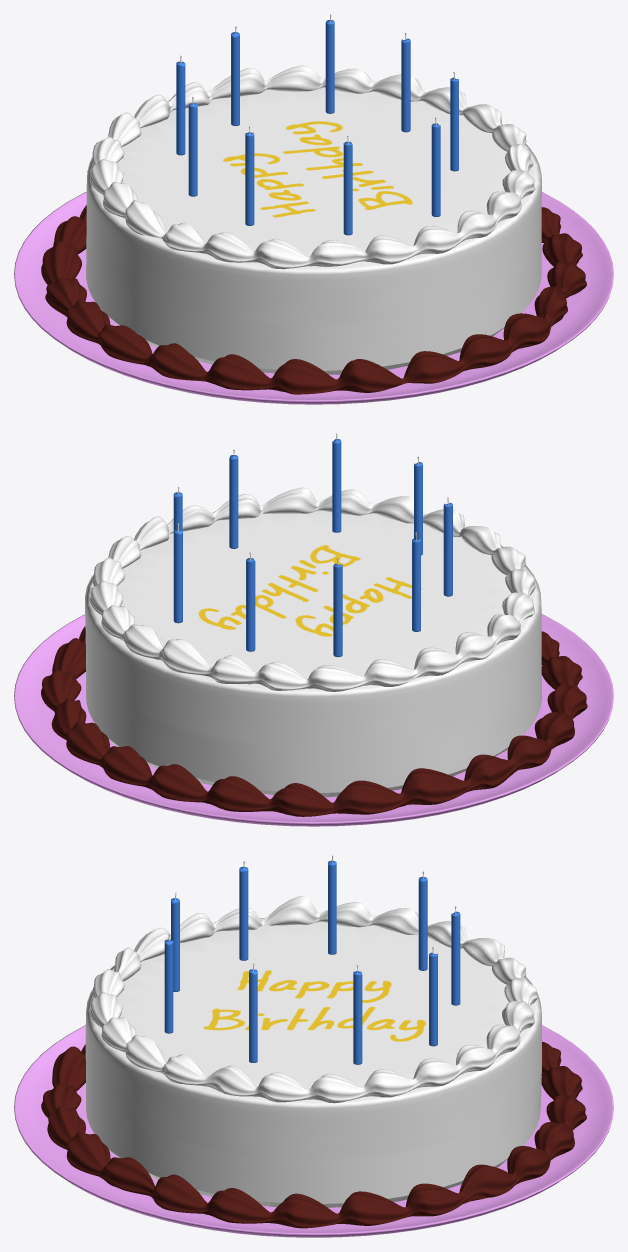
Rendered from birthday_cake.glb.
3 renders of one model, top to bottom at view 1: azimuth 30°, elevation 25°; view 2: azimuth 150°, elevation 25°; view 3: azimuth 270°, elevation 25°, orthographic.
Parts seen in each view (by area): view 1: cake, yellow-cream, cream, dish, happy_birthday_text, candle4, candle5, candle7, candle6, candle2, candle, candle8 (+2 smaller); view 2: cake, yellow-cream, cream, dish, happy_birthday_text, candle9, candle2, candle6, candle8, candle4, candle3, candle5 (+1 smaller); view 3: cake, yellow-cream, cream, dish, happy_birthday_text, candle8, candle6, candle4, candle3, candle, candle5, candle9 (+2 smaller).
Part boxes in pixels (x1,y1,x2,y2): cake: (86, 87, 541, 374); yellow-cream: (90, 65, 535, 269); cream: (41, 205, 586, 394); dish: (14, 192, 613, 404); happy_birthday_text: (223, 121, 412, 217); candle4: (176, 61, 185, 155); candle5: (188, 102, 197, 196); candle7: (343, 141, 352, 235); candle6: (245, 132, 254, 225); candle2: (325, 20, 334, 113); candle: (401, 38, 410, 132); candle8: (431, 123, 440, 216); cake: (85, 510, 541, 797); yellow-cream: (90, 487, 535, 691); cream: (41, 626, 587, 816); dish: (14, 614, 613, 826); happy_birthday_text: (198, 545, 421, 636); candle9: (229, 455, 238, 548); candle2: (173, 529, 182, 623); candle6: (443, 502, 452, 596); candle8: (332, 439, 341, 532); candle4: (333, 563, 342, 656); candle3: (246, 558, 255, 651); candle5: (412, 538, 420, 631); cake: (85, 917, 541, 1207); yellow-cream: (90, 895, 537, 1103); cream: (41, 1041, 586, 1228); dish: (14, 1025, 613, 1237); happy_birthday_text: (203, 970, 426, 1041); candle8: (164, 939, 173, 1033); candle6: (239, 866, 248, 960); candle4: (418, 877, 427, 970); candle3: (451, 911, 460, 1005); candle: (353, 971, 362, 1064); candle5: (328, 860, 336, 954); candle9: (249, 969, 257, 1062).
Bounding box in the file's own units: 0.3555 × 0.1434 × 0.3555.
Materials: 9 (1 with a texture image).
